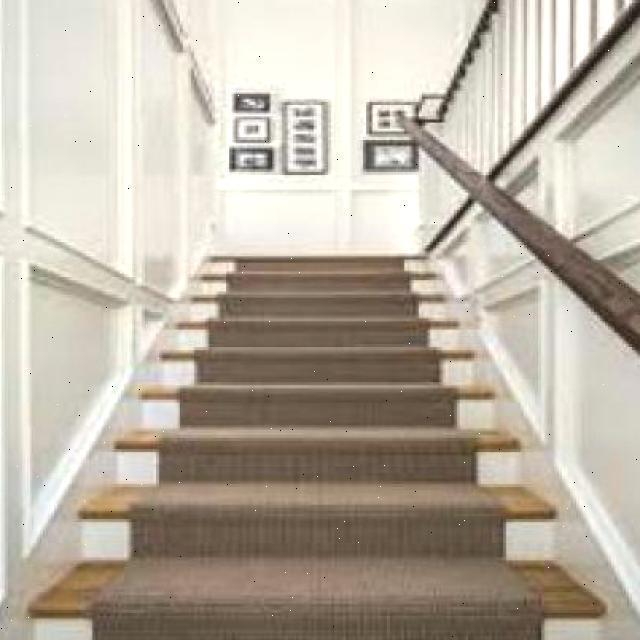stair: (54, 398, 605, 640)
